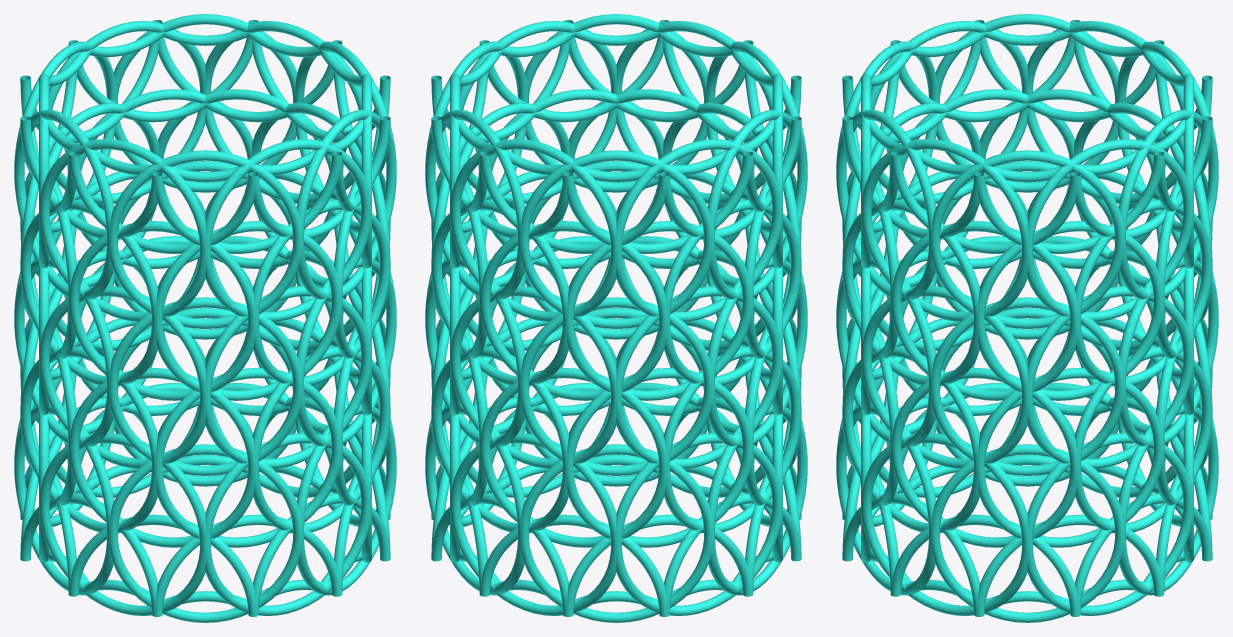
The model's file is flower-vr-floweroflife_v4.glb.
3 renders of one model, left to right at view 1: azimuth 30°, elevation 25°; view 2: azimuth 150°, elevation 25°; view 3: azimuth 270°, elevation 25°, orthographic.
Size of the model in its own units: 7.71 by 10.48 by 7.71.
